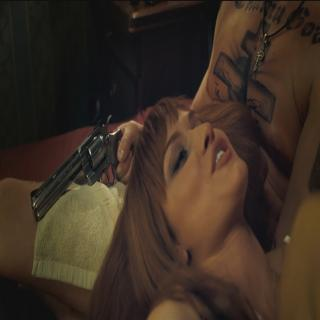gun: (28, 111, 136, 230)
